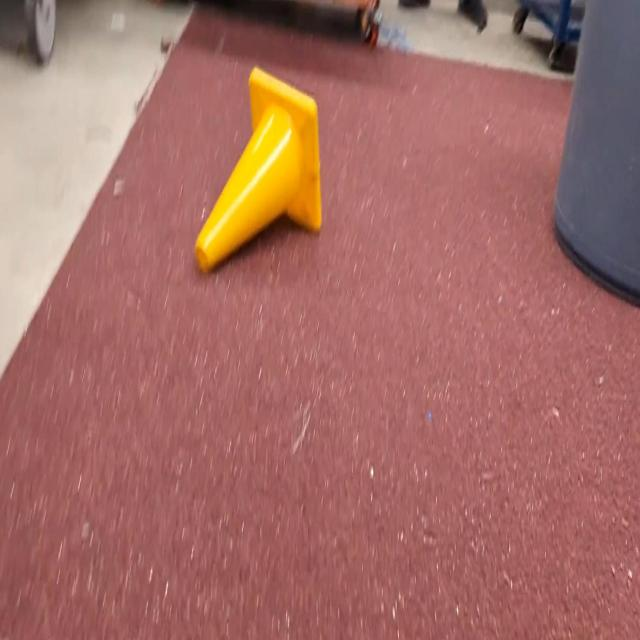frc_cone: (194, 64, 322, 270)
